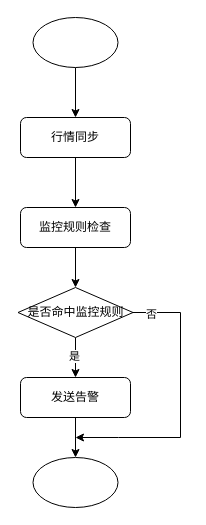
The diagram is 206 pixels wide and 525 high, and some of its shapes have lost their labels. Here are the shapes that lost their labels. From the top down, the centre of each, then its label:
the point at 75,42: 开始
the point at 75,482: 结束
